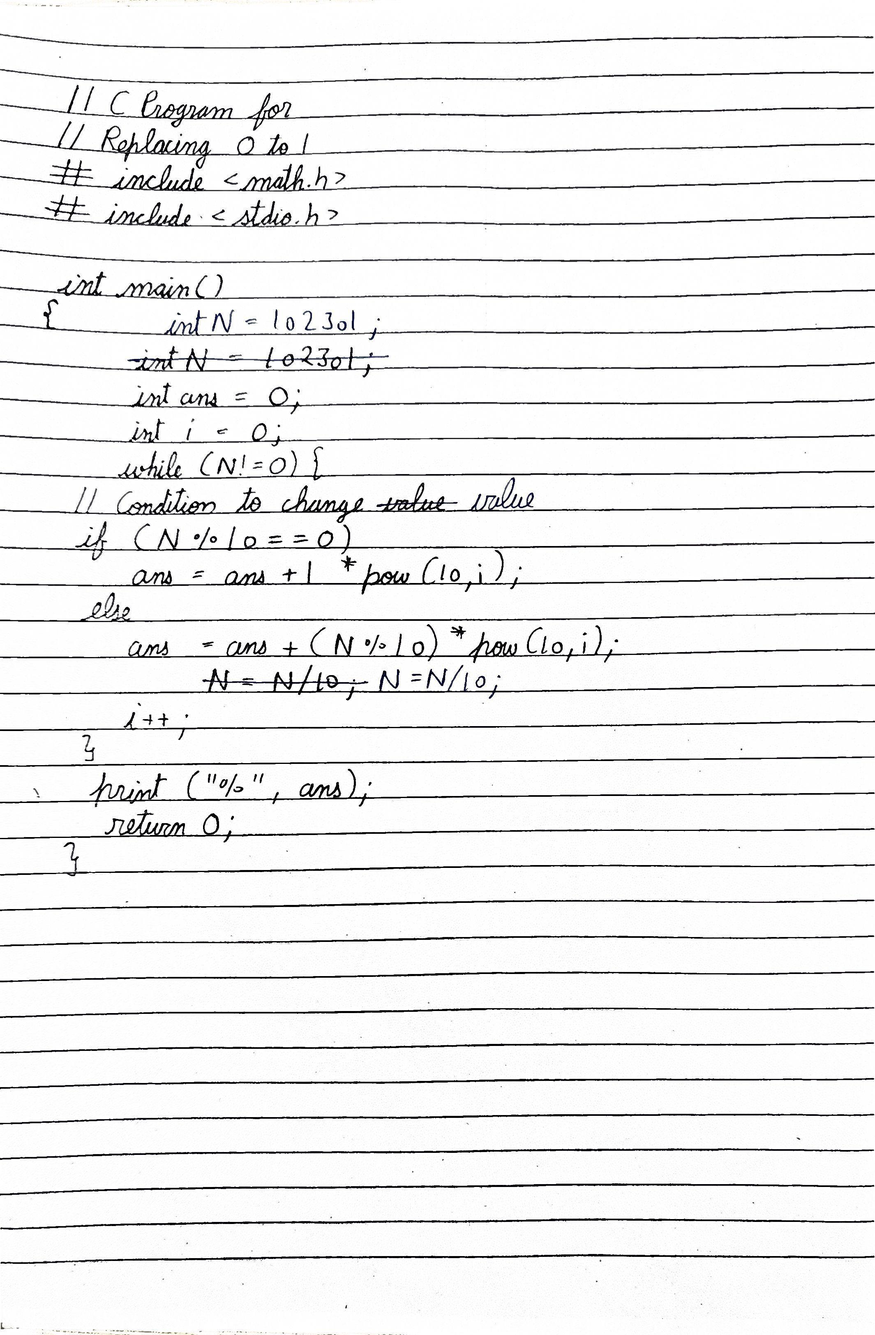cuttings: (124, 343, 392, 381), (200, 662, 370, 702), (374, 482, 460, 514)
